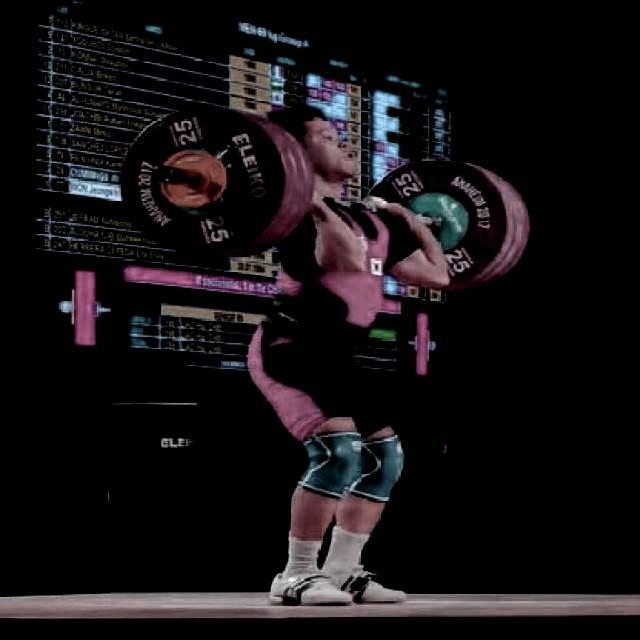barbell: (116, 101, 320, 270)
